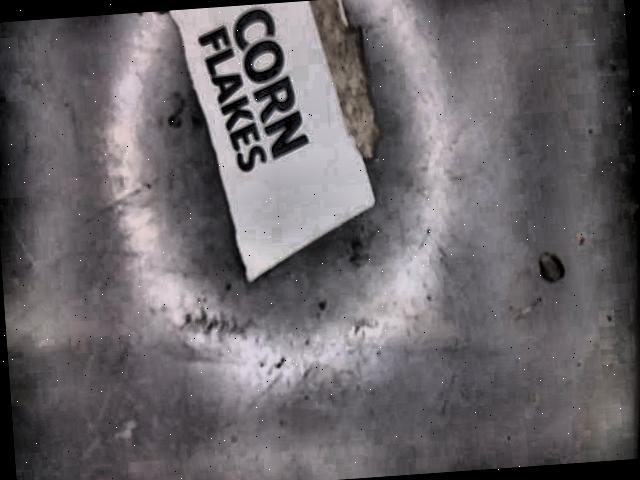Paper: (165, 0, 383, 279)
